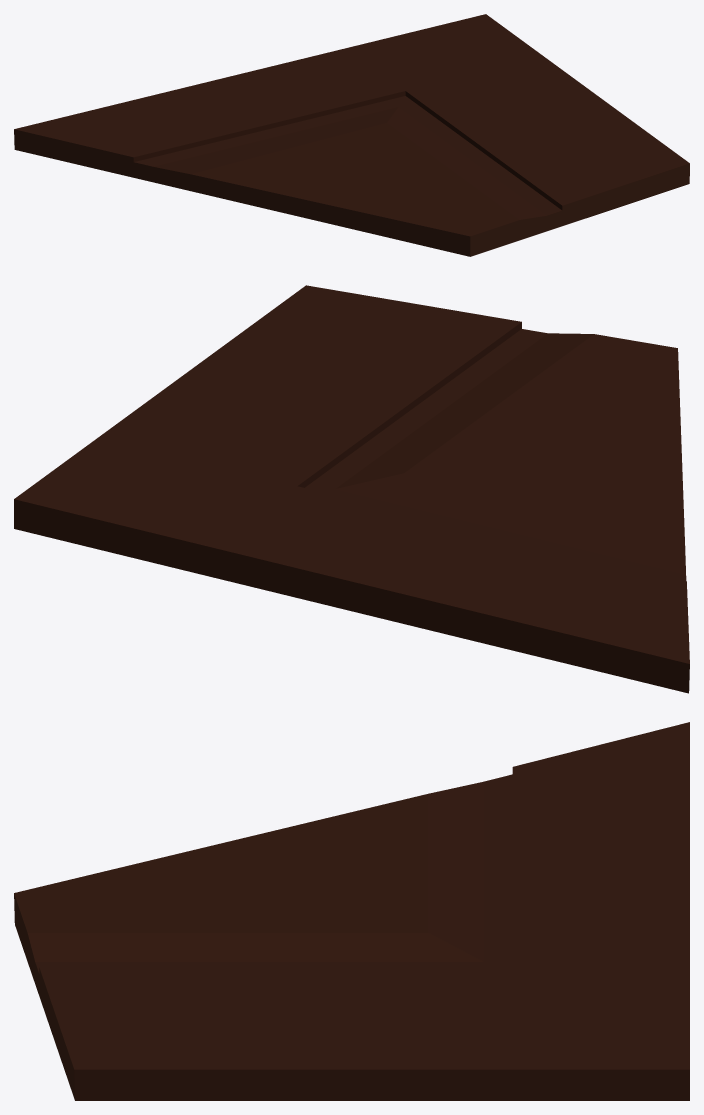
File: Placard_Part_12.fbx
3 views of the same model, one above another, from view 1: azimuth 30°, elevation 25°; view 2: azimuth 150°, elevation 25°; view 3: azimuth 270°, elevation 25° (orthographic). The views are drawn at different scales.
Parts seen in each view (by area): view 1: Placard_Part_12; view 2: Placard_Part_12; view 3: Placard_Part_12.
Part boxes in pixels (x1,y1,x2,y2): Placard_Part_12: (14,14,689,256); Placard_Part_12: (14,285,689,693); Placard_Part_12: (14,722,689,1100).
Size of the model in its own units: 65 by 2.73 by 53.41.
